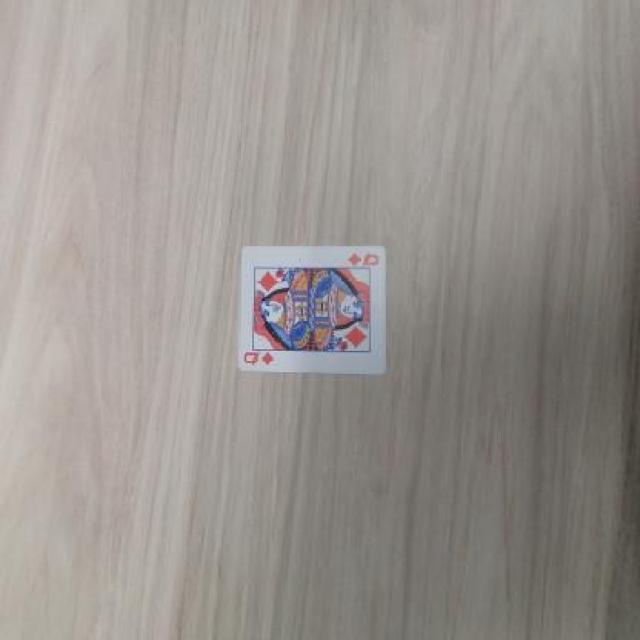QD: (340, 246, 383, 271), (239, 347, 276, 371)
